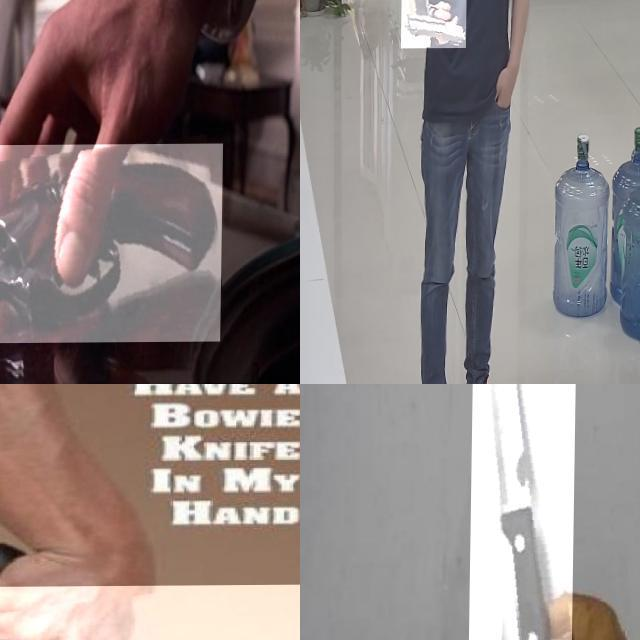-: (468, 384, 578, 640), (0, 585, 300, 640)
gun-knife-thesis - v11 Yolov5 augmented: (0, 144, 224, 344), (401, 0, 467, 48)
